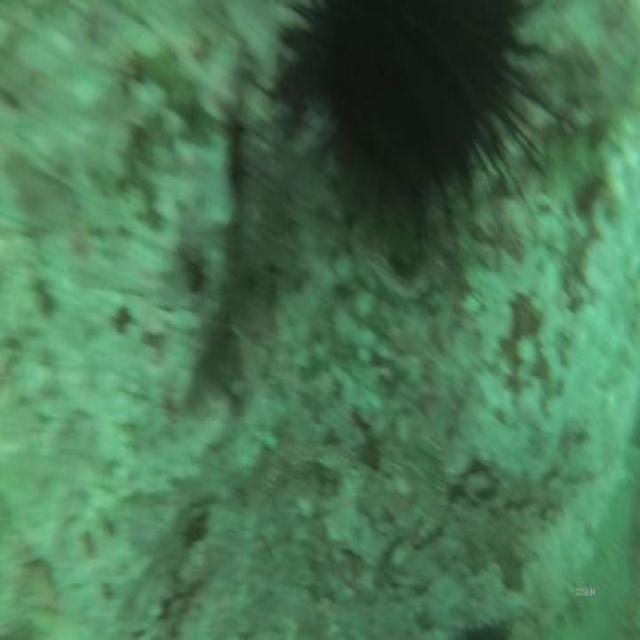echinus: (289, 6, 530, 209)
